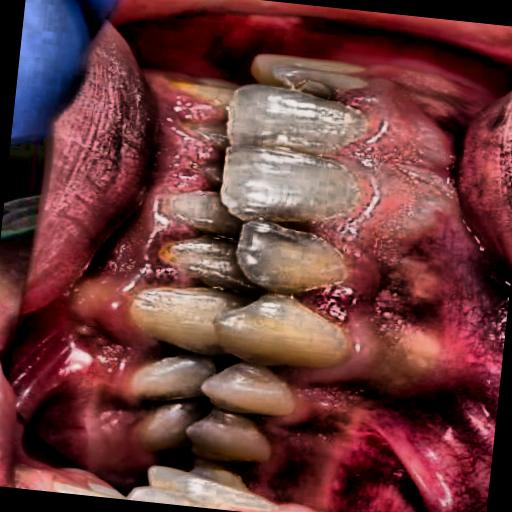Gingivitis: (294, 46, 502, 444), (64, 54, 213, 494)
